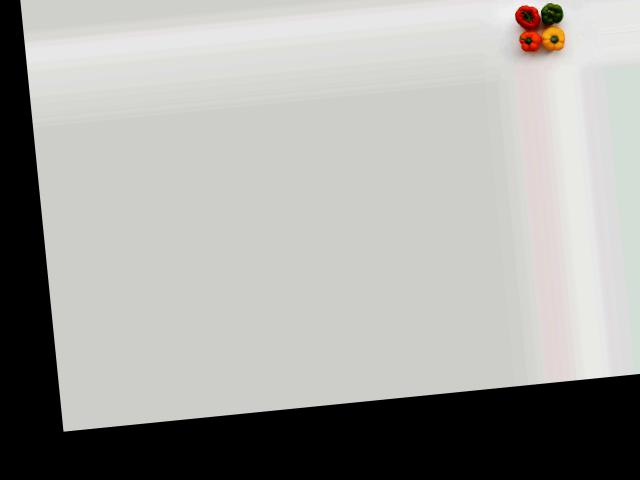bell_pepper: (534, 0, 571, 28)
